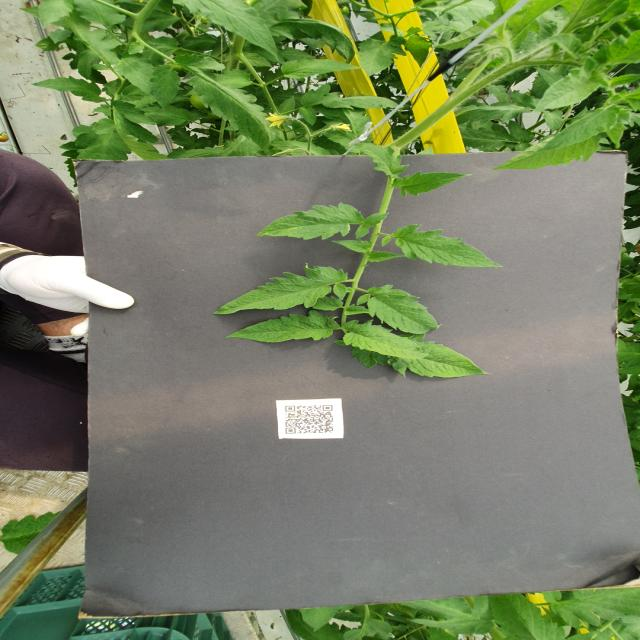Healthy Leaf: (335, 334, 504, 384), (493, 118, 630, 170), (214, 264, 349, 316), (189, 74, 275, 154), (174, 1, 281, 62), (382, 224, 505, 269), (261, 202, 390, 241), (535, 102, 621, 154), (356, 285, 444, 335), (299, 84, 400, 126), (269, 19, 356, 66), (543, 587, 640, 628), (111, 100, 175, 160), (226, 311, 342, 344), (489, 592, 568, 640), (342, 320, 431, 361), (529, 67, 606, 114), (459, 121, 536, 152), (392, 172, 475, 199), (31, 76, 108, 105), (352, 143, 411, 178), (280, 58, 364, 81), (359, 39, 407, 79), (118, 53, 159, 96), (455, 104, 531, 125), (151, 65, 182, 110), (401, 36, 436, 69), (39, 1, 75, 30), (273, 141, 333, 157), (175, 55, 227, 72), (544, 110, 565, 134), (314, 296, 344, 312)
